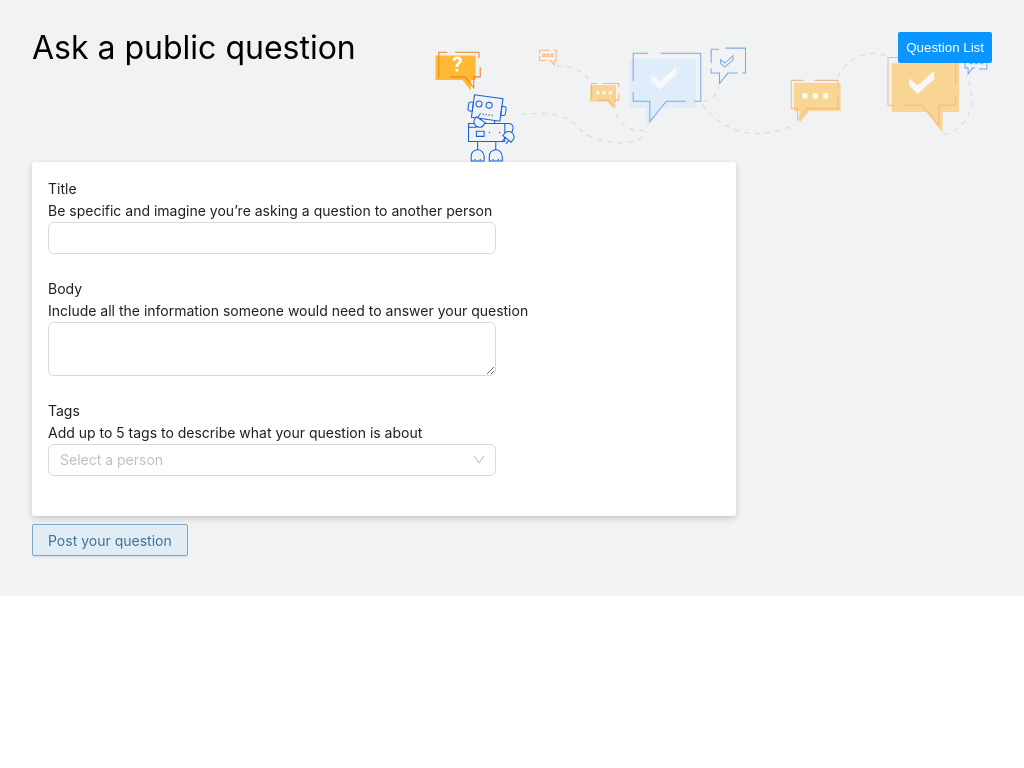
Test case: Questions Component › Should show validation messges
The width and height of the screenshot is (1024, 768).
Click the button "Post your question" at [110, 540], box [32,524,188,556]
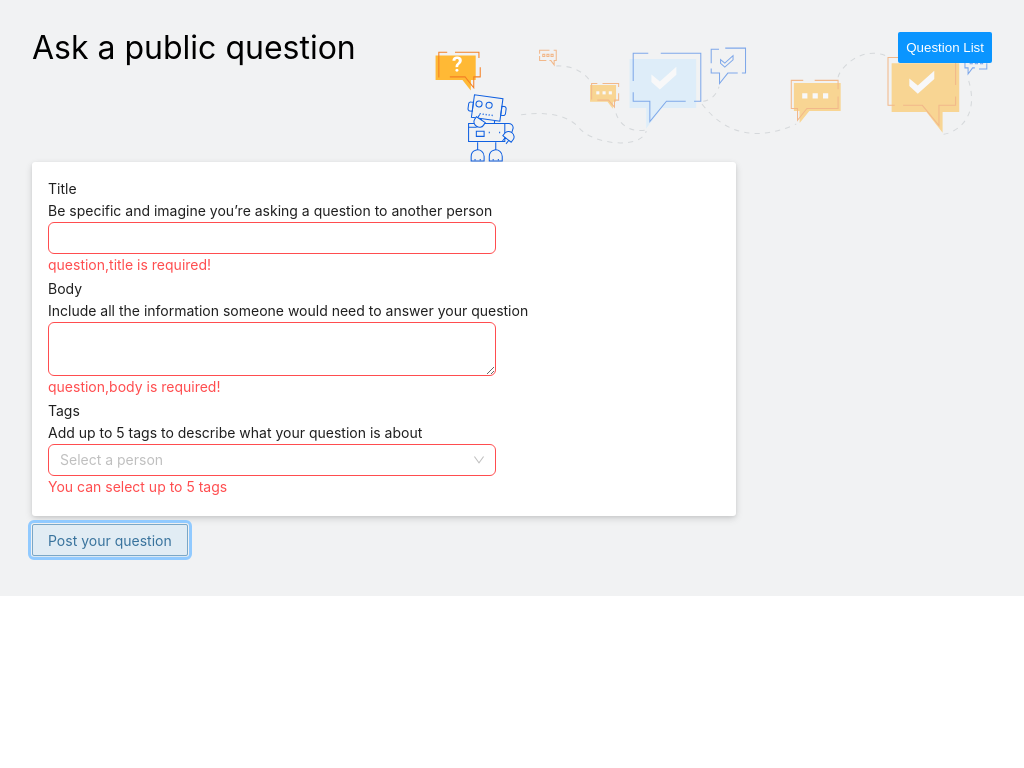
Expected: the text "question,title is required!" is shown, [48,256,211,273]
Expected: the text "question,body is required!" is shown, [48,378,220,395]
Expected: the text "You can select up to 5 tags" is shown, [48,478,227,495]
